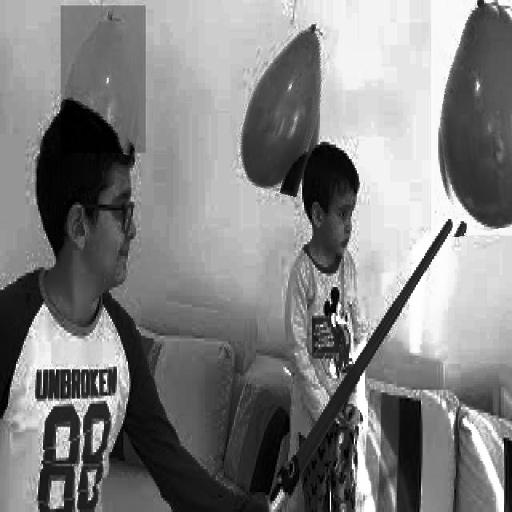balloon: (431, 0, 512, 235), (238, 16, 330, 194), (60, 6, 146, 152)
